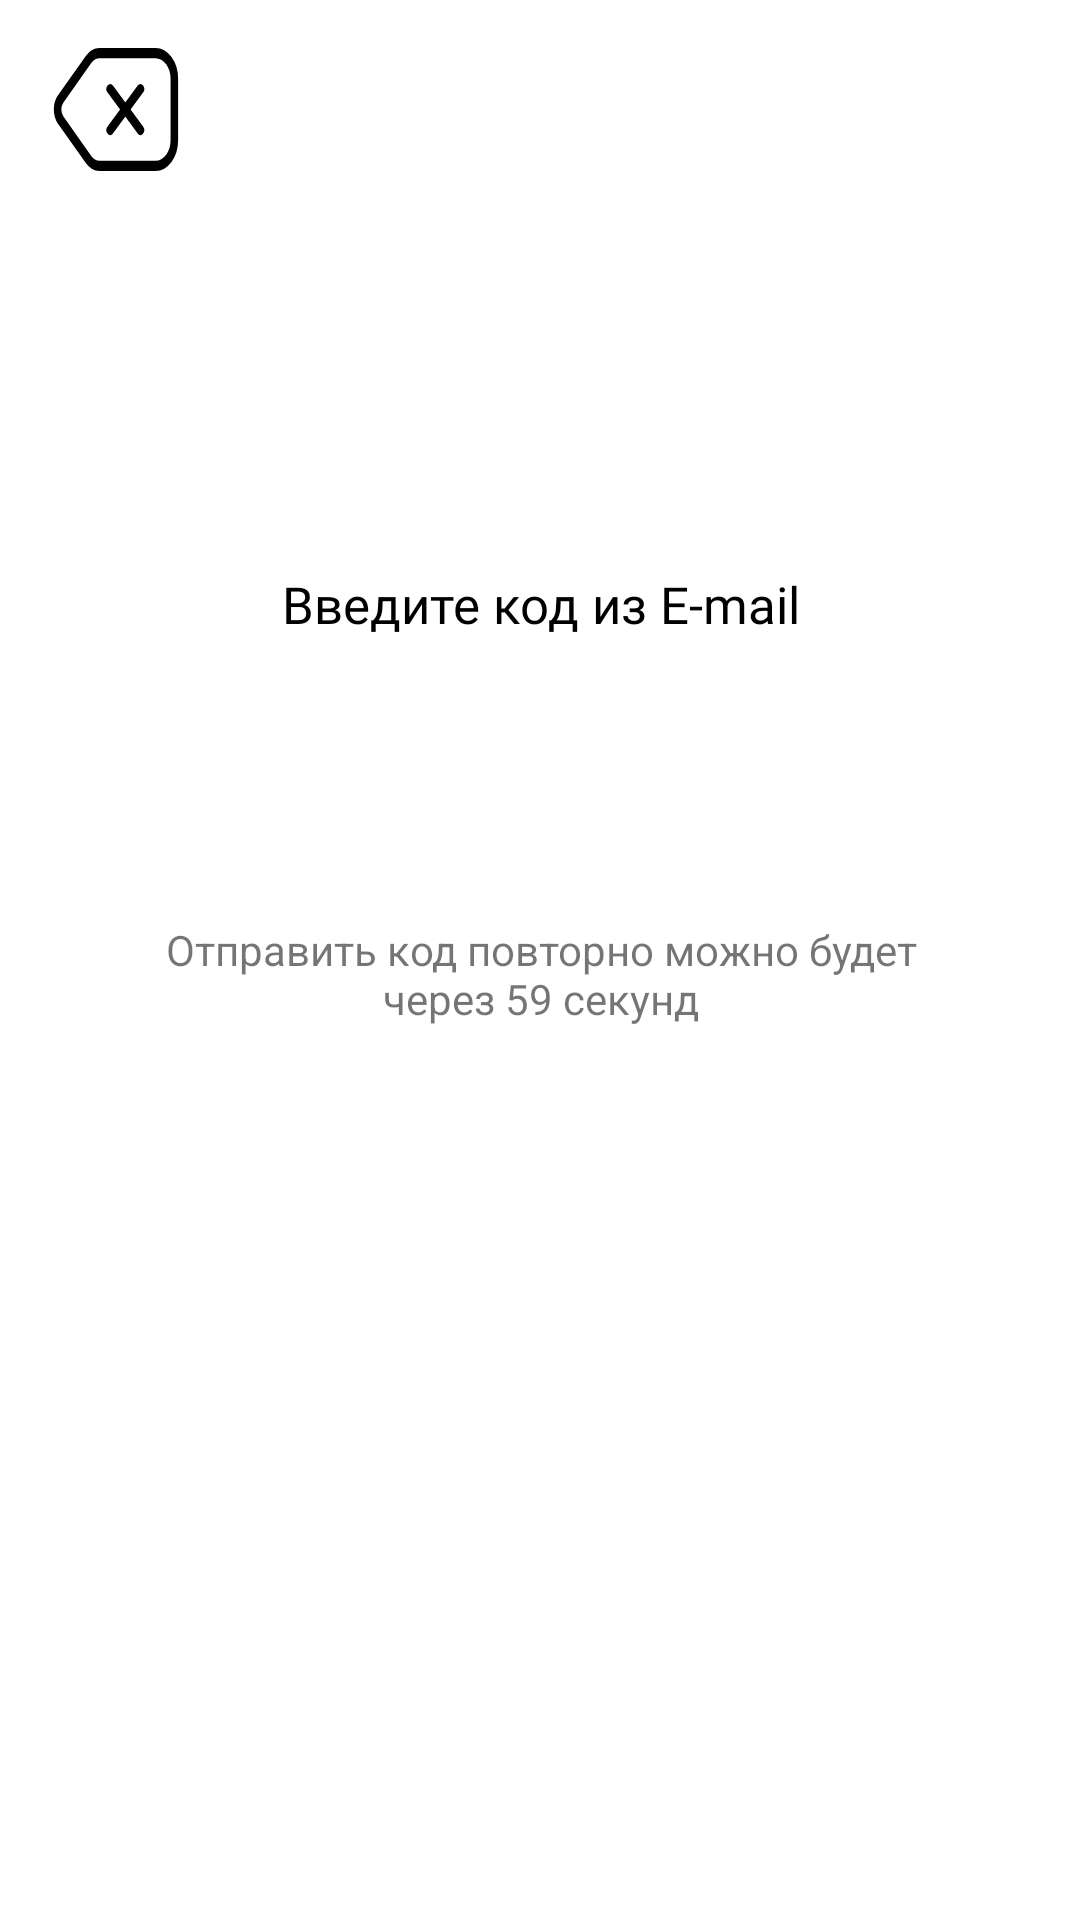

Screen size 1080 × 1920. Icon name, then its box in pixels as (x1, y1, x2, y2):
back: (53, 48, 179, 171)
